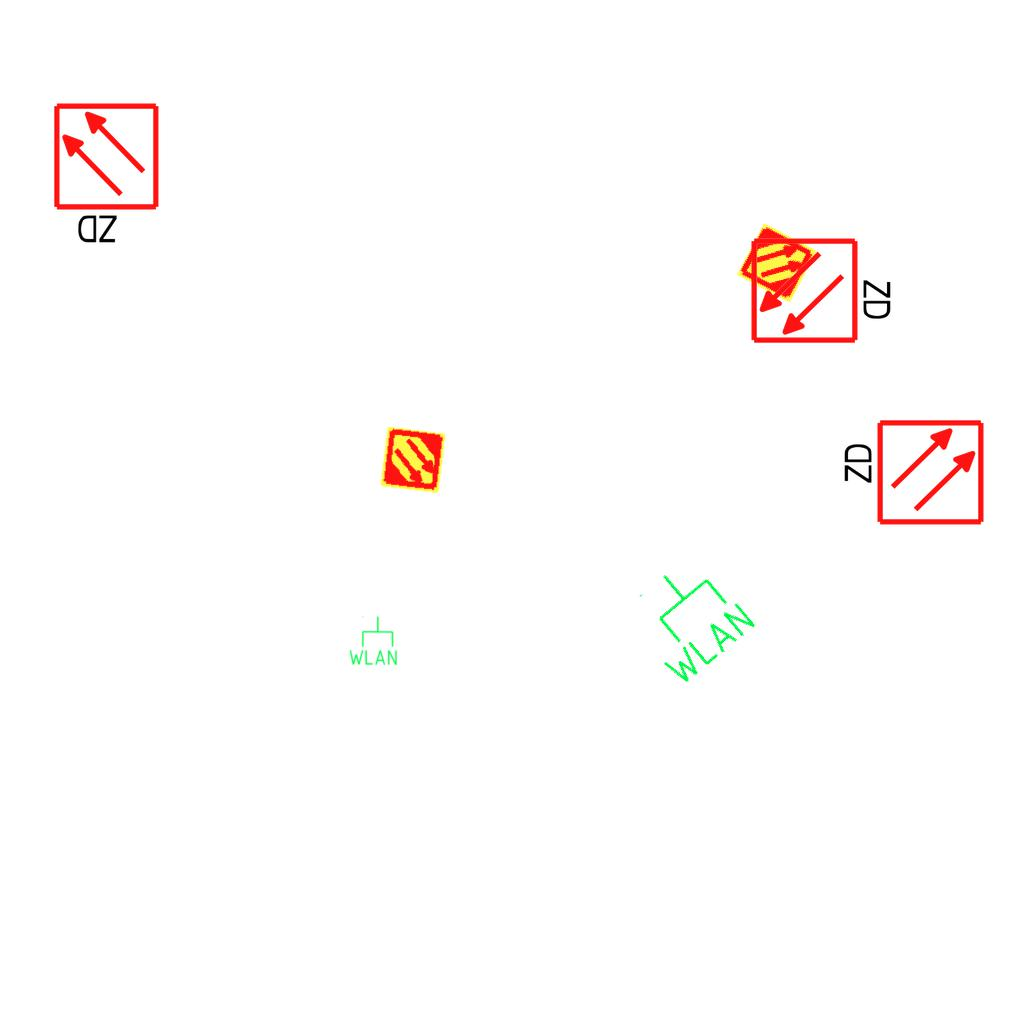ASR_Ansaugrauchmelder: (735, 221, 819, 305), (378, 425, 448, 495)
WLAN: (614, 545, 762, 694), (347, 615, 399, 667)
ZD_Melder_in_Zwischendecke_mit_Revisionsoeffnung_mind_40_x_40_cm: (51, 101, 165, 250), (837, 417, 986, 531), (749, 232, 898, 346)
